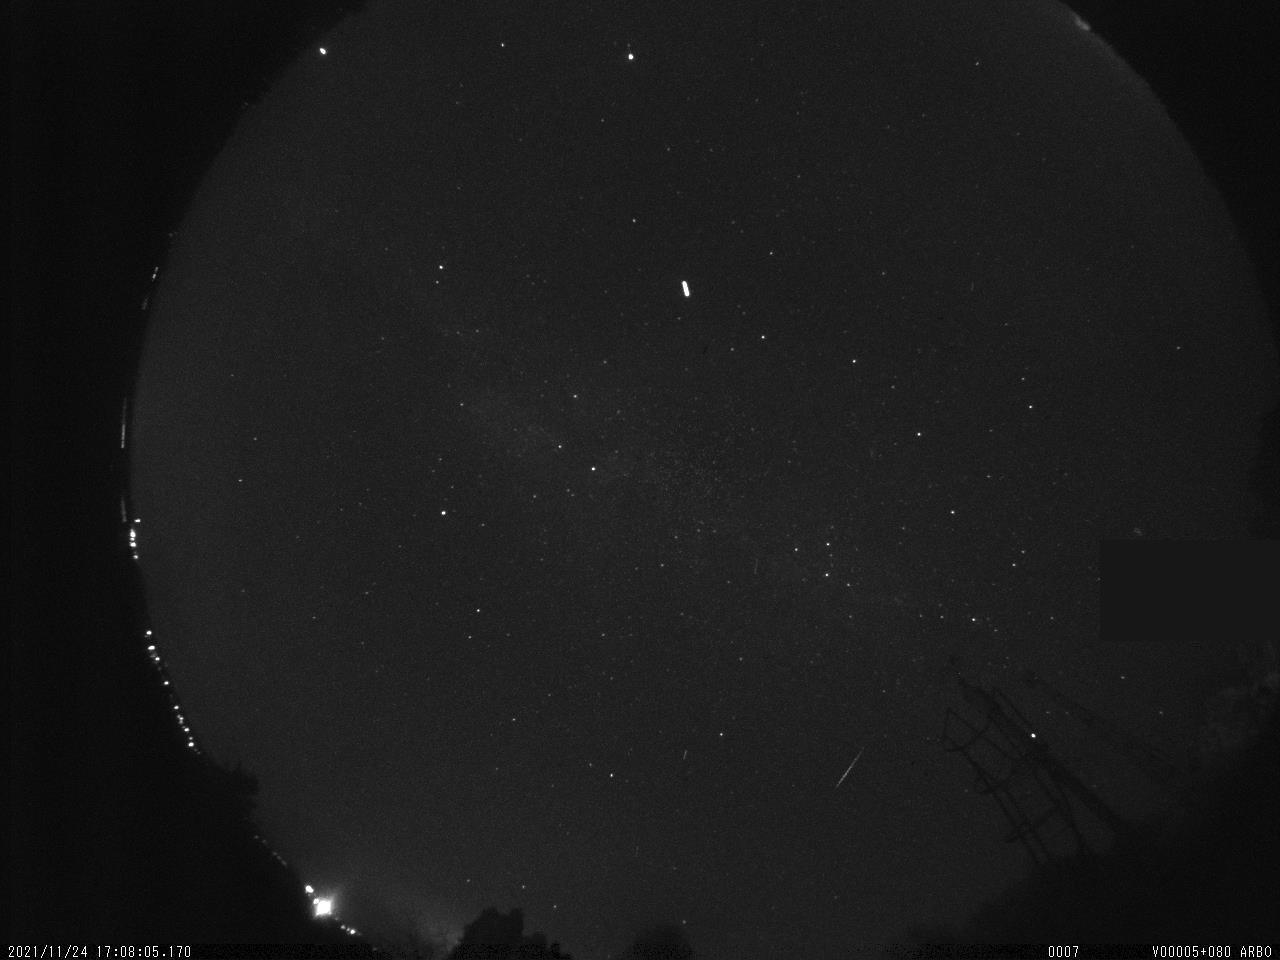meteor: (821, 737, 876, 799)
